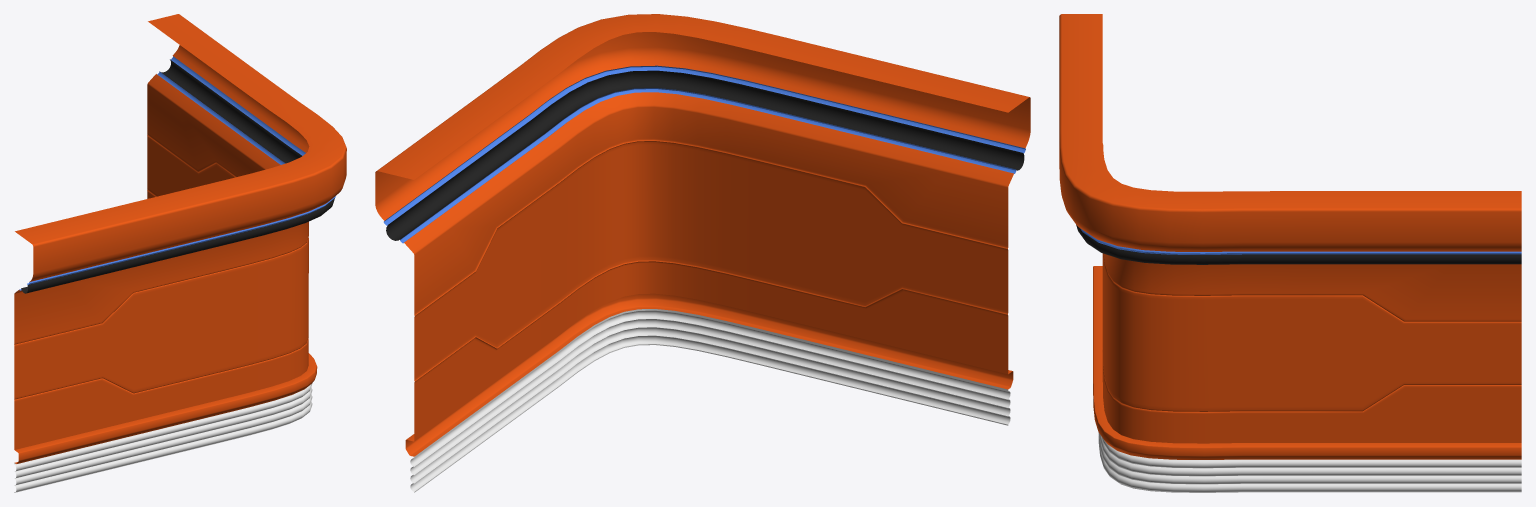
Rendered from GymWallOuterCorner 1.fbx.
3 views of the same model, side by side, from view 1: azimuth 30°, elevation 25°; view 2: azimuth 150°, elevation 25°; view 3: azimuth 270°, elevation 25° (orthographic). The views are drawn at different scales.
Visible parts, largest first — view 1: GymWall_Corner_Outer; view 2: GymWall_Corner_Outer; view 3: GymWall_Corner_Outer.
Part boxes in pixels (x1,y1,x2,y2): GymWall_Corner_Outer: [14, 14, 346, 492]; GymWall_Corner_Outer: [375, 14, 1030, 492]; GymWall_Corner_Outer: [1059, 14, 1521, 492].
Bounding box in the file's own units: 640 × 460 × 638.
